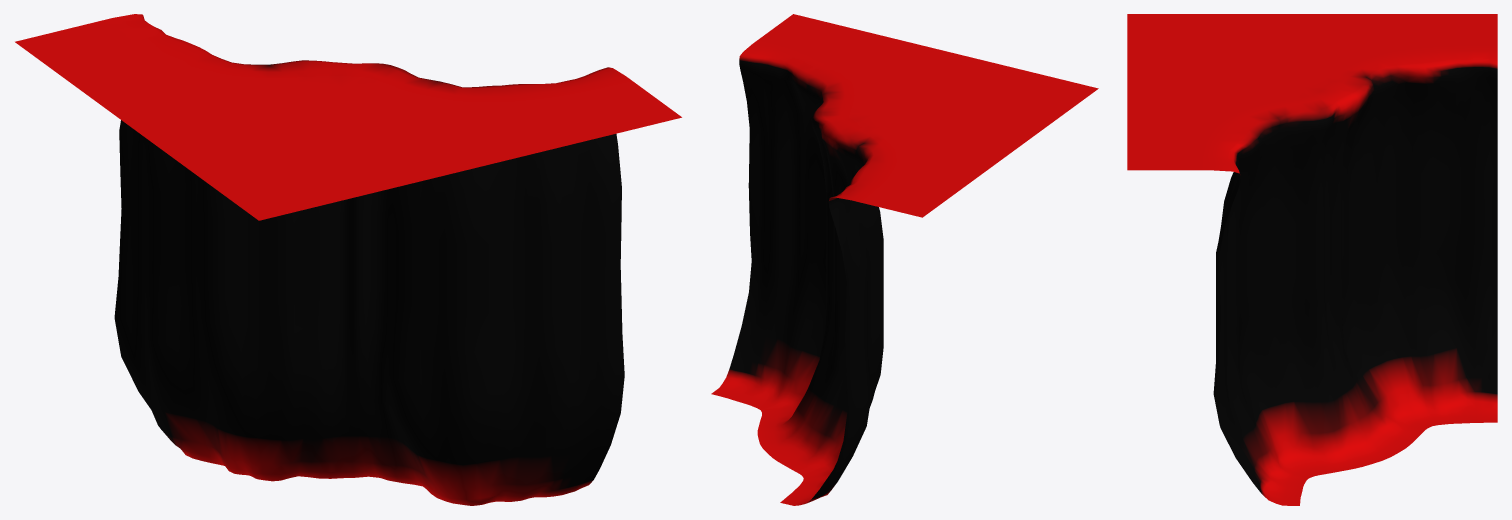
File: GroundCliff04A 3M Foreground.fbx
3 renders of one model, left to right at view 1: azimuth 30°, elevation 25°; view 2: azimuth 150°, elevation 25°; view 3: azimuth 270°, elevation 25°, orthographic. The views are drawn at different scales.
Parts seen in each view (by area): view 1: GroundCliff04A 3M Foreground; view 2: GroundCliff04A 3M Foreground; view 3: GroundCliff04A 3M Foreground.
Boxes of the visible parts, x1,y1,x2,y2 form: GroundCliff04A 3M Foreground: [15, 14, 681, 505]; GroundCliff04A 3M Foreground: [711, 14, 1098, 505]; GroundCliff04A 3M Foreground: [1127, 14, 1497, 505].
Size of the model in its own units: 3 by 3 by 3.
